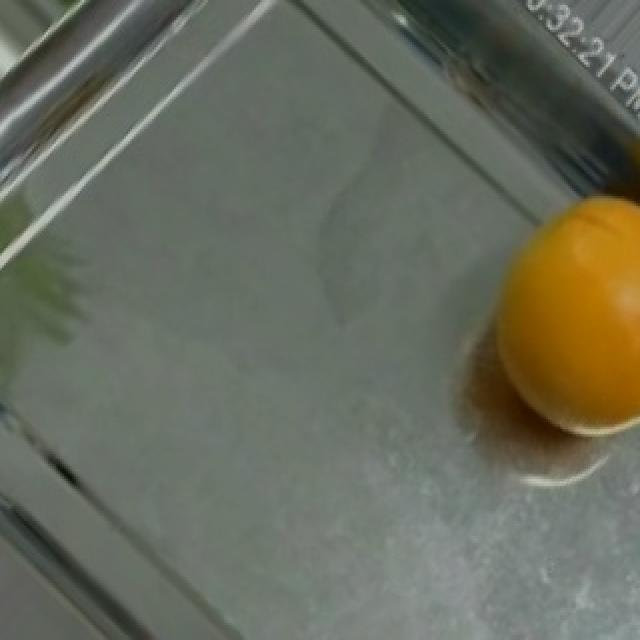Fruit: (464, 186, 640, 459)
